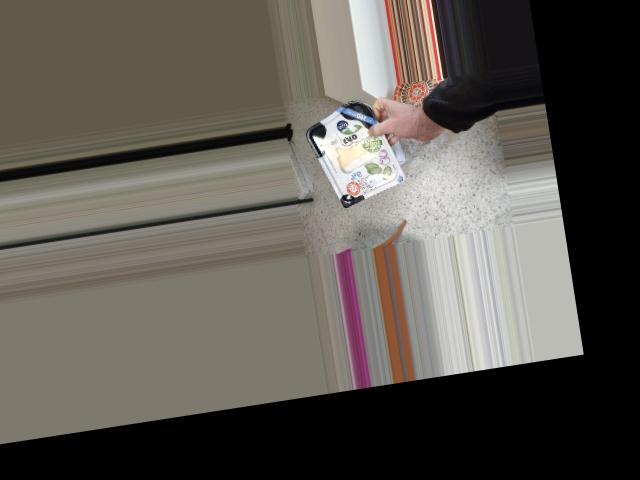cheese: (311, 104, 392, 203)
